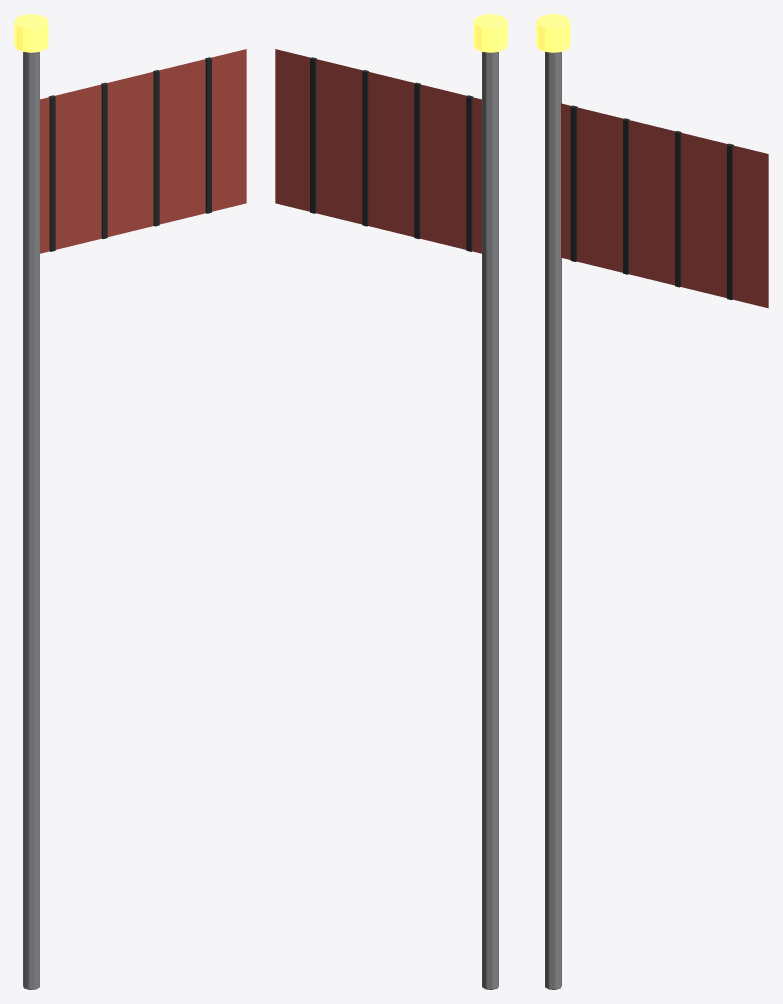
The model's file is flag.glb.
3 views of the same model, side by side, from view 1: azimuth 30°, elevation 25°; view 2: azimuth 150°, elevation 25°; view 3: azimuth 330°, elevation 25° (orthographic).
Parts seen in each view (by area): view 1: Cloth, Pole, Finial, Fold_0, Fold_2, Fold_3, Fold_1; view 2: Cloth, Pole, Finial, Fold_0, Fold_2, Fold_3, Fold_1; view 3: Cloth, Pole, Finial, Fold_0, Fold_3, Fold_1, Fold_2.
Boxes of the visible parts, x1=… form: Cloth: x1=40, y1=49, x2=246, y2=253; Pole: x1=23, y1=52, x2=39, y2=989; Finial: x1=14, y1=14, x2=48, y2=52; Fold_0: x1=49, y1=95, x2=55, y2=251; Fold_2: x1=153, y1=70, x2=159, y2=226; Fold_3: x1=205, y1=57, x2=211, y2=213; Fold_1: x1=101, y1=82, x2=107, y2=238; Cloth: x1=275, y1=49, x2=481, y2=253; Pole: x1=482, y1=52, x2=498, y2=989; Finial: x1=473, y1=14, x2=507, y2=52; Fold_0: x1=466, y1=95, x2=472, y2=251; Fold_2: x1=362, y1=70, x2=368, y2=226; Fold_3: x1=310, y1=57, x2=316, y2=213; Fold_1: x1=414, y1=82, x2=420, y2=238; Cloth: x1=561, y1=103, x2=768, y2=308; Pole: x1=545, y1=52, x2=561, y2=989; Finial: x1=536, y1=14, x2=570, y2=52; Fold_0: x1=570, y1=105, x2=577, y2=261; Fold_3: x1=727, y1=143, x2=733, y2=299; Fold_1: x1=623, y1=118, x2=629, y2=274; Fold_2: x1=675, y1=131, x2=681, y2=287.
Bounding box in the file's own units: 1.33 × 5.32 × 0.17.
